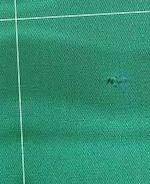knot: (105, 73, 126, 88)
